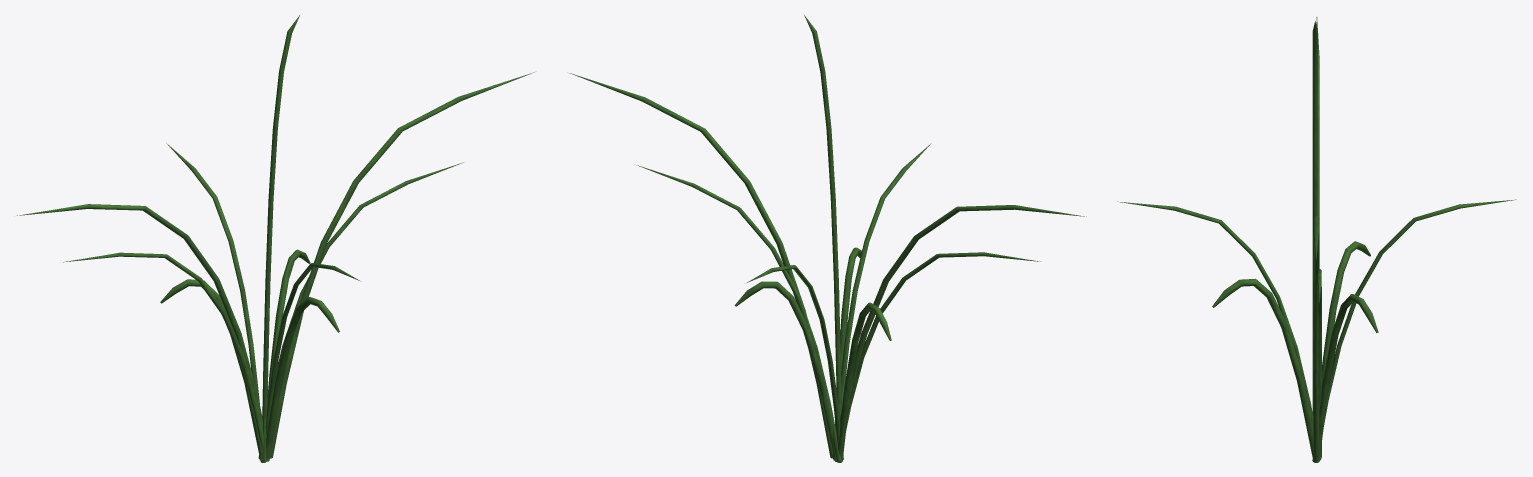
The model's file is Grass1.fbx.
3 views of the same model, side by side, from view 1: azimuth 30°, elevation 25°; view 2: azimuth 150°, elevation 25°; view 3: azimuth 270°, elevation 25° (orthographic). The views are drawn at different scales.
Visible parts, largest first — view 1: Line007; view 2: Line007; view 3: Line007.
Part boxes in pixels (bbox=[...]): Line007: bbox=[17, 15, 534, 462]; Line007: bbox=[569, 15, 1086, 462]; Line007: bbox=[1117, 17, 1516, 462].
Bounding box in the file's own units: 72.65 × 58.29 × 46.31.
Materials: 1 (1 with a texture image).
